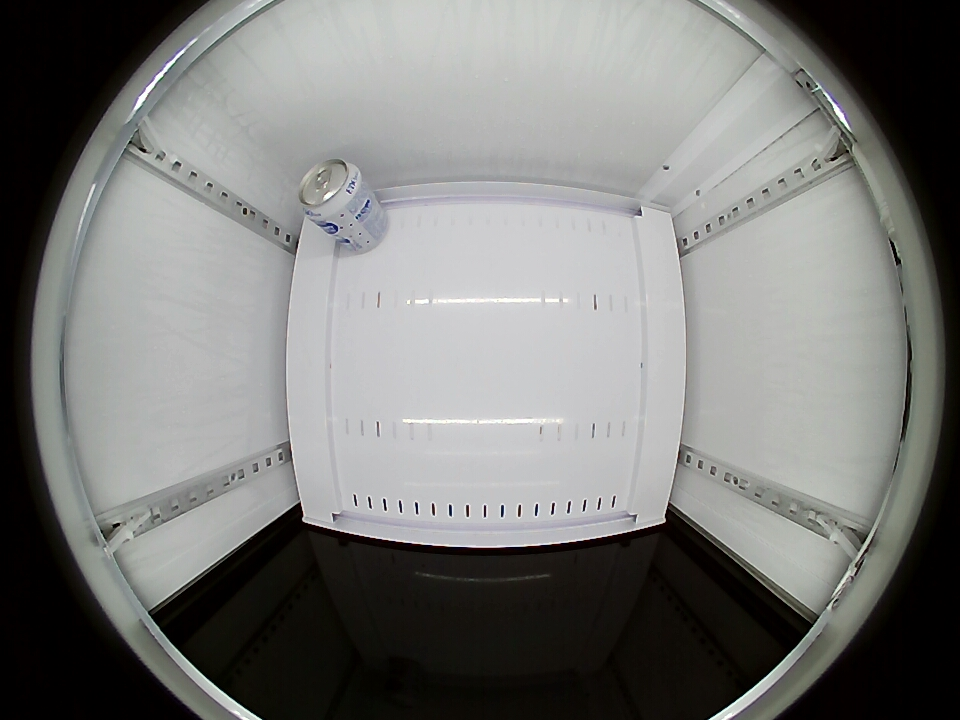rusuanjunqishui: (298, 159, 365, 224)
